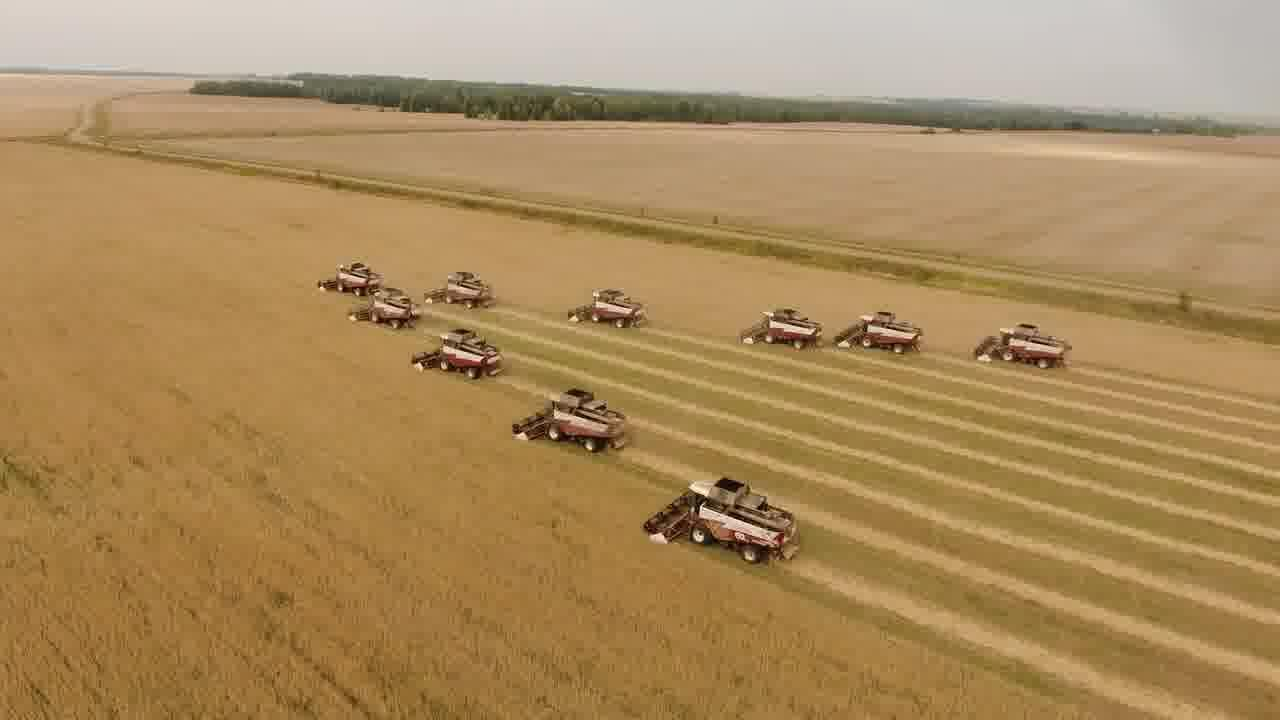combine harvester: (641, 473, 804, 569), (508, 385, 631, 456), (970, 320, 1075, 372), (408, 327, 507, 381), (734, 305, 828, 353), (833, 311, 929, 356), (564, 285, 652, 330), (422, 266, 498, 311), (347, 287, 422, 332), (315, 257, 384, 295)
